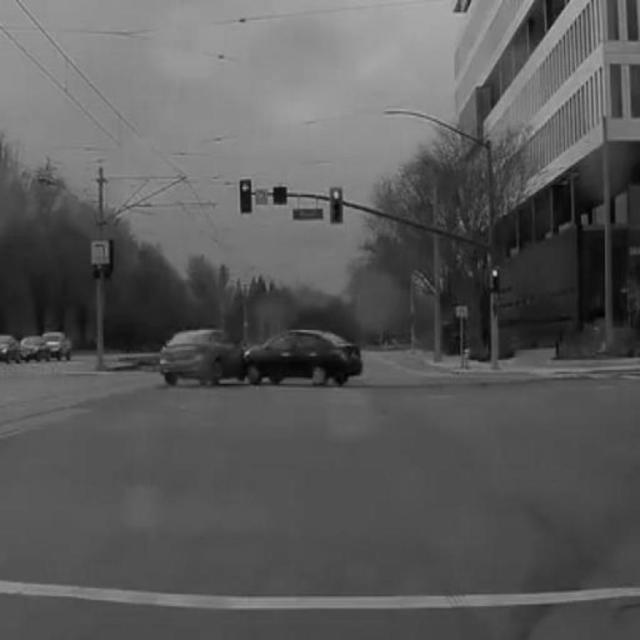accident: (156, 323, 366, 393)
vehicle: (36, 325, 76, 363)
